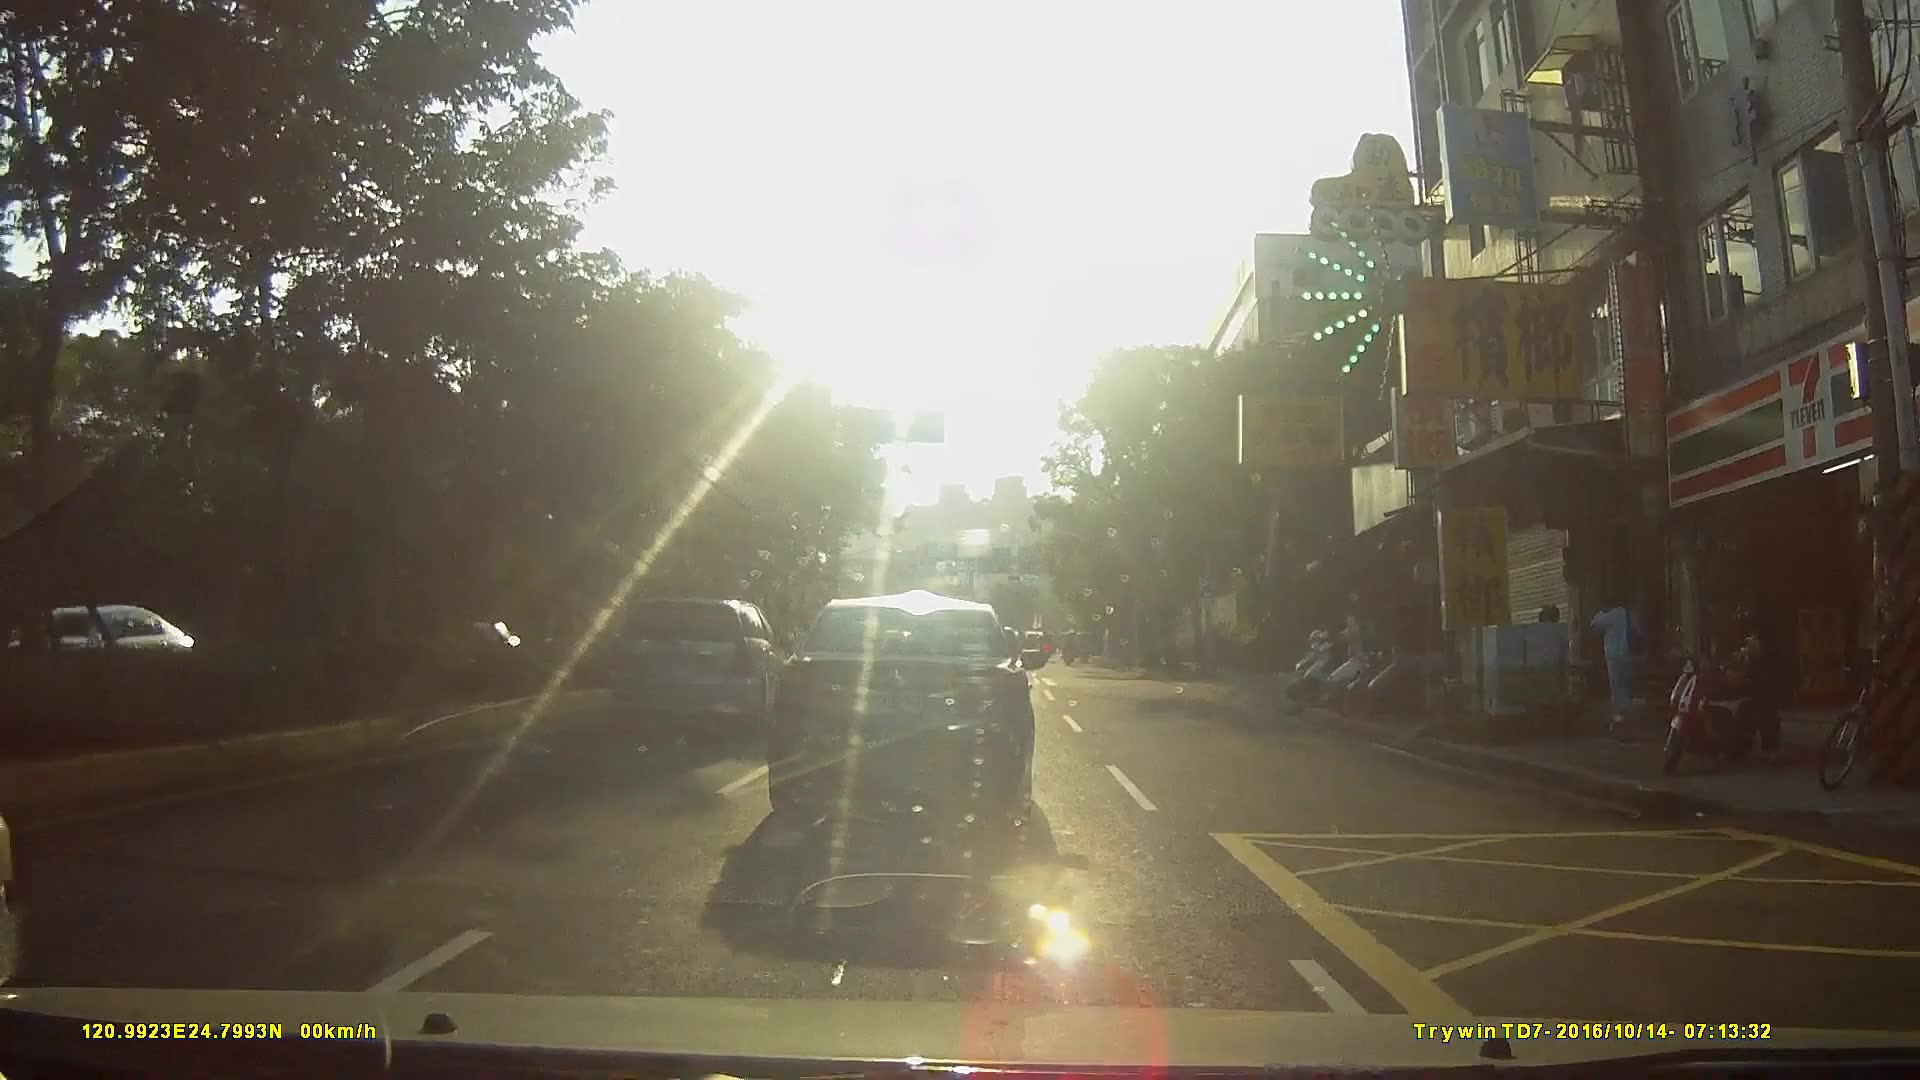pedestrian: (1590, 592, 1654, 726), (1734, 616, 1788, 773)
vehicle: (772, 599, 1054, 836), (613, 595, 795, 730), (20, 599, 195, 699)
